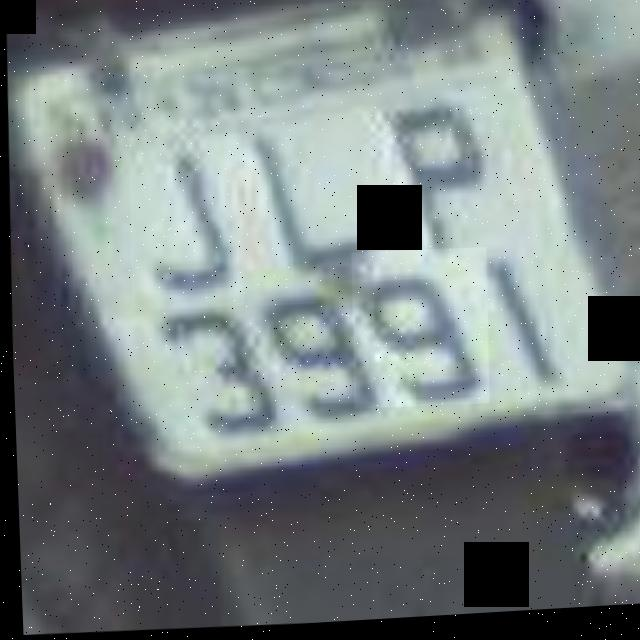1: (458, 224, 586, 404)
3: (130, 287, 298, 462)
9: (346, 250, 489, 415), (250, 269, 389, 434)
J: (232, 117, 372, 290), (124, 134, 244, 313)
P: (372, 90, 504, 262)
